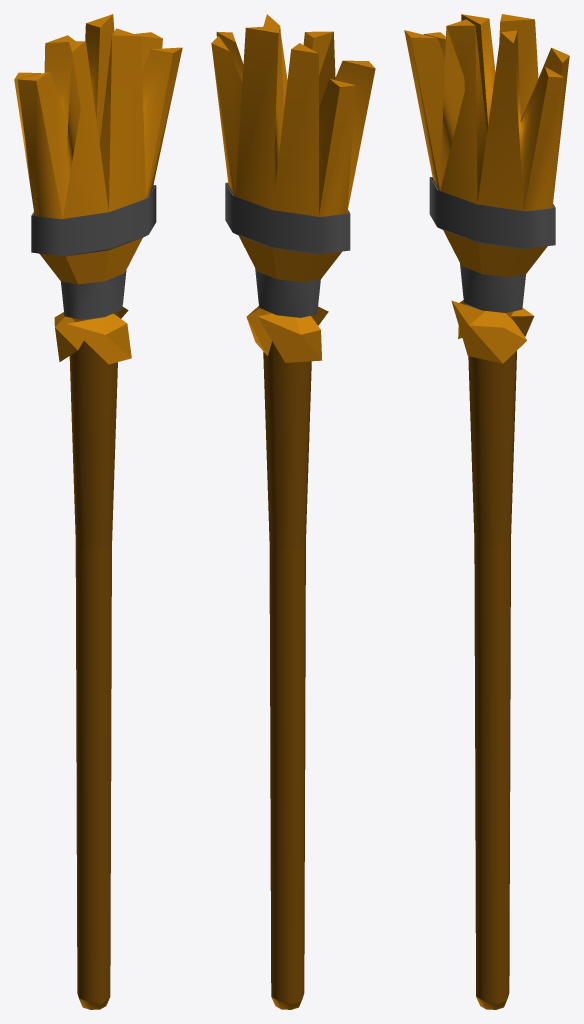
Rendered from broom_weapon_001.fbx.
3 renders of one model, left to right at view 1: azimuth 30°, elevation 25°; view 2: azimuth 150°, elevation 25°; view 3: azimuth 330°, elevation 25°, orthographic.
Parts seen in each view (by area): view 1: pCube1; view 2: pCube1; view 3: pCube1.
Boxes of the visible parts, box(x1,y1,x2,y2) form: pCube1: box(14, 14, 182, 1009); pCube1: box(211, 14, 375, 1009); pCube1: box(404, 14, 569, 1009).
Bounding box in the file's own units: 33.05 × 191 × 14.
